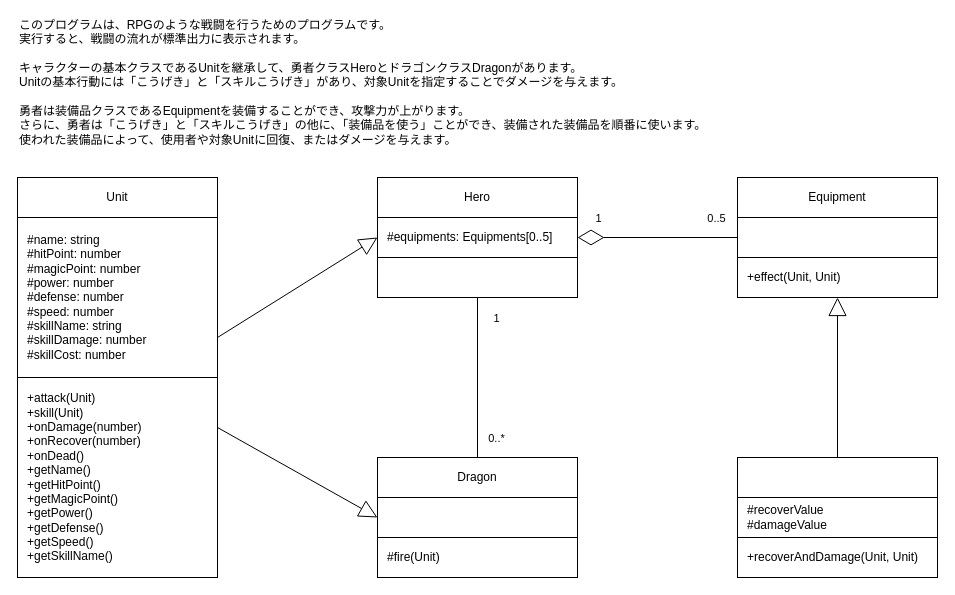
This 955x595 diagram has some shape labels left out. Each missing label, with the box of its shape:
#name: string #power: number: (736, 216, 938, 258)
+equip(Equipment) +useNextEquipment(Unit): (376, 256, 578, 298)
HeroSword: (736, 456, 938, 498)
